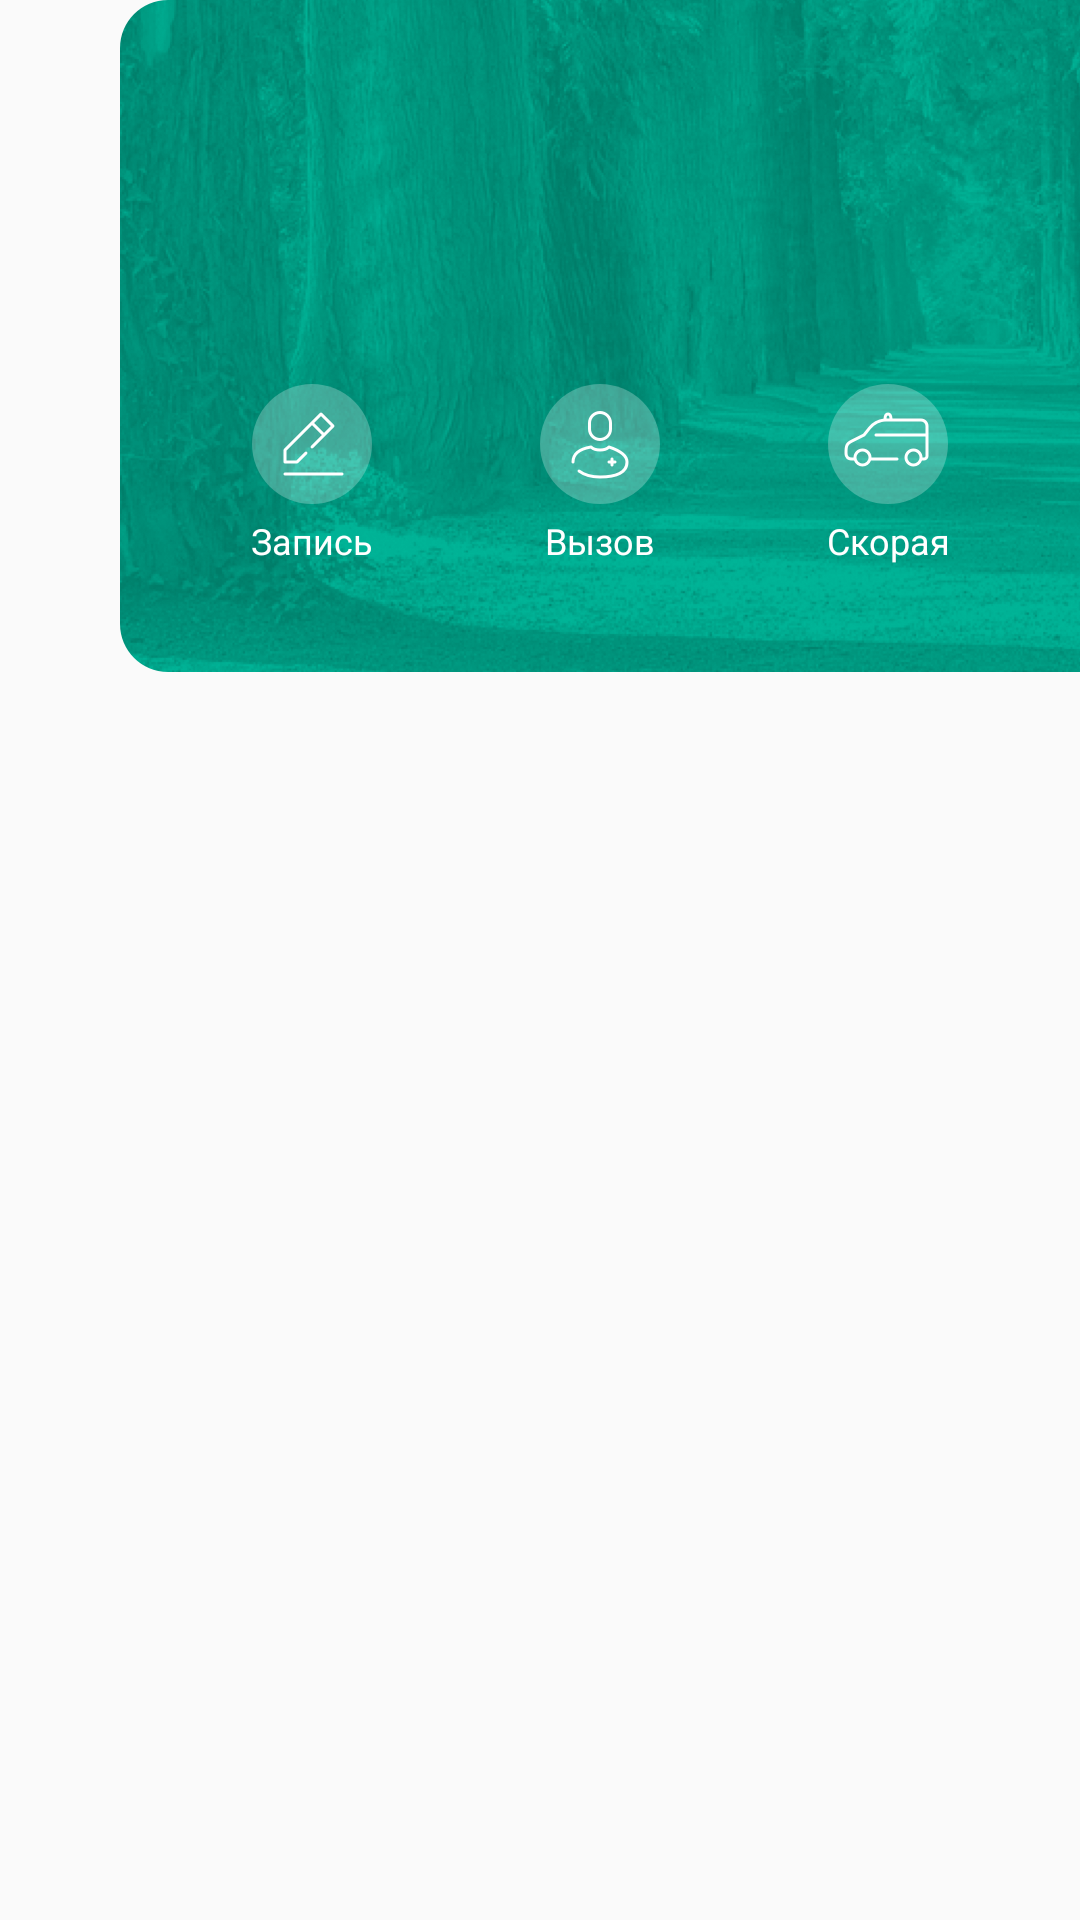

Screen size 1080*1920. Icon name, then its center in pixels as [x,y]:
ambulance: [886,439]
call doc: [600,445]
note: [314,446]
